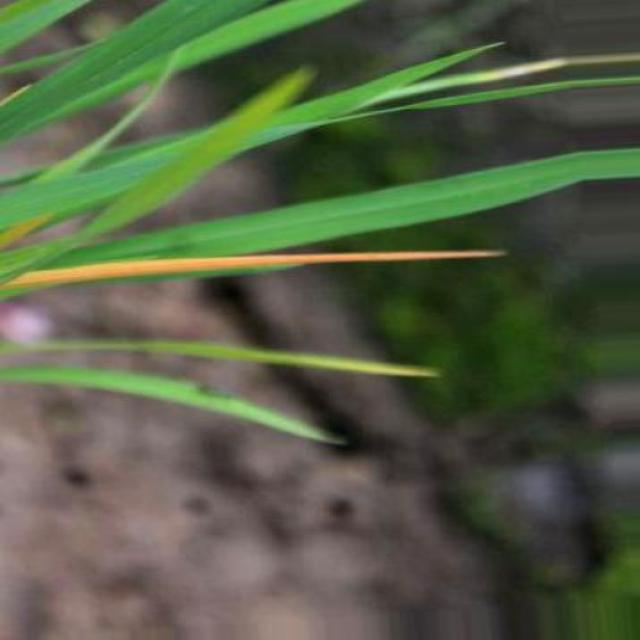Rice Tungro: (0, 250, 507, 290), (371, 53, 640, 103)
